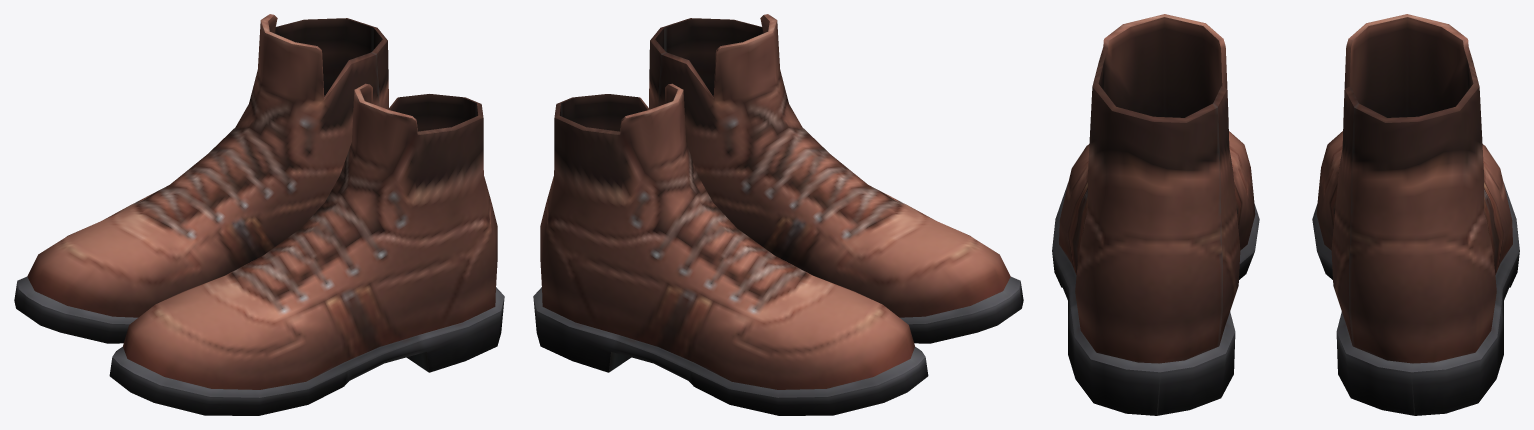
Rendered from QiCheXiuLiChang_01_xiezi_01.FBX.
The picture shows the model from 3 angles, left to right: view 1: azimuth 30°, elevation 25°; view 2: azimuth 150°, elevation 25°; view 3: azimuth 270°, elevation 25°; orthographic projection. The views are drawn at different scales.
Parts seen in each view (by area): view 1: PiErSenDeGongYu_junxie_01; view 2: PiErSenDeGongYu_junxie_01; view 3: PiErSenDeGongYu_junxie_01.
Part boxes in pixels (box(x1,y1,x2,y2)): PiErSenDeGongYu_junxie_01: box(14, 14, 504, 415); PiErSenDeGongYu_junxie_01: box(533, 14, 1023, 415); PiErSenDeGongYu_junxie_01: box(1052, 14, 1519, 415).
Bounding box in the file's own units: 128 × 82.12 × 109.
